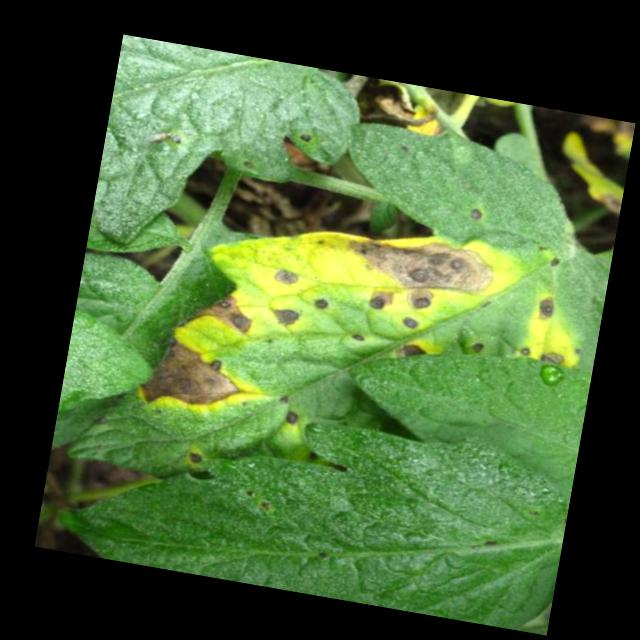Early_blight: (337, 219, 500, 301), (134, 331, 268, 425), (170, 283, 257, 341), (402, 285, 435, 314), (364, 284, 395, 313), (395, 336, 431, 360), (530, 292, 558, 322), (268, 303, 300, 329), (269, 263, 300, 288), (538, 346, 567, 368), (183, 442, 206, 467), (398, 311, 422, 332), (280, 406, 300, 427), (465, 205, 486, 220), (468, 338, 485, 354), (311, 294, 329, 309), (347, 330, 366, 342)
